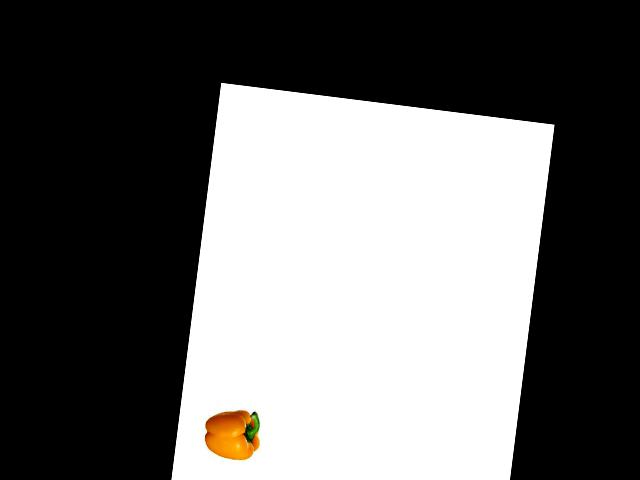bell_pepper: (198, 400, 268, 467)
